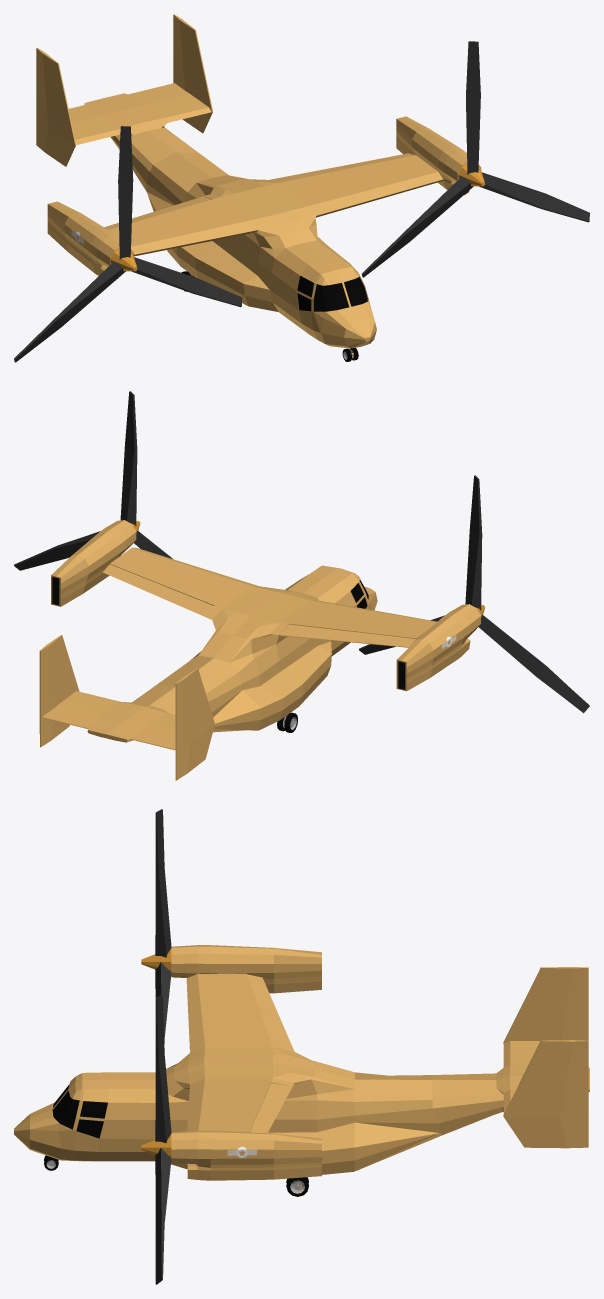
3 renders of one model, top to bottom at view 1: azimuth 30°, elevation 25°; view 2: azimuth 150°, elevation 25°; view 3: azimuth 270°, elevation 25°, orthographic. The views are drawn at different scales.
Parts seen in each view (by area): view 1: Circle.006, L_propeller.002, R_propeller.002, R.002, L.002, L_Elevator.002, R_Rudder.002, L_Rudder.002; view 2: Circle.006, R_propeller.002, R.002, L.002, L_propeller.002, R_Flap2.002, L_Elevator.002, L_Flap2.002, R_Flap1.002, L_Flap1.002, R_elevator.002, L_Rudder.002 (+1 smaller); view 3: Circle.006, L.002, R.002, L_propeller.002, R_propeller.002, R_Rudder.002, L_Rudder.002, R_Flap2.002, L_Flap2.002.
Part boxes in pixels (<box>): Circle.006: <box>36,19,443,348</box>; L_propeller.002: <box>362,41,589,277</box>; R_propeller.002: <box>14,126,242,362</box>; R.002: <box>47,201,133,278</box>; L.002: <box>396,116,481,195</box>; L_Elevator.002: <box>131,83,189,103</box>; R_Rudder.002: <box>36,47,46,104</box>; L_Rudder.002: <box>173,14,183,71</box>; Circle.006: <box>39,547,436,780</box>; R_propeller.002: <box>359,475,589,713</box>; R.002: <box>396,604,480,691</box>; L.002: <box>51,520,136,606</box>; L_propeller.002: <box>14,391,172,570</box>; R_Flap2.002: <box>280,624,352,641</box>; L_Elevator.002: <box>42,704,100,728</box>; L_Flap2.002: <box>154,585,213,616</box>; R_Flap1.002: <box>344,631,416,647</box>; L_Flap1.002: <box>103,564,161,594</box>; R_elevator.002: <box>133,726,175,750</box>; L_Rudder.002: <box>39,645,52,699</box>; Circle.006: <box>14,967,589,1174</box>; L.002: <box>171,1130,321,1180</box>; R.002: <box>171,945,321,993</box>; L_propeller.002: <box>141,995,171,1284</box>; R_propeller.002: <box>141,809,171,1043</box>; R_Rudder.002: <box>564,967,588,1021</box>; L_Rudder.002: <box>564,1040,588,1094</box>; R_Flap2.002: <box>259,1008,292,1046</box>; L_Flap2.002: <box>259,1083,292,1114</box>.
Size of the model in its own units: 2646 by 1053 by 2085.
